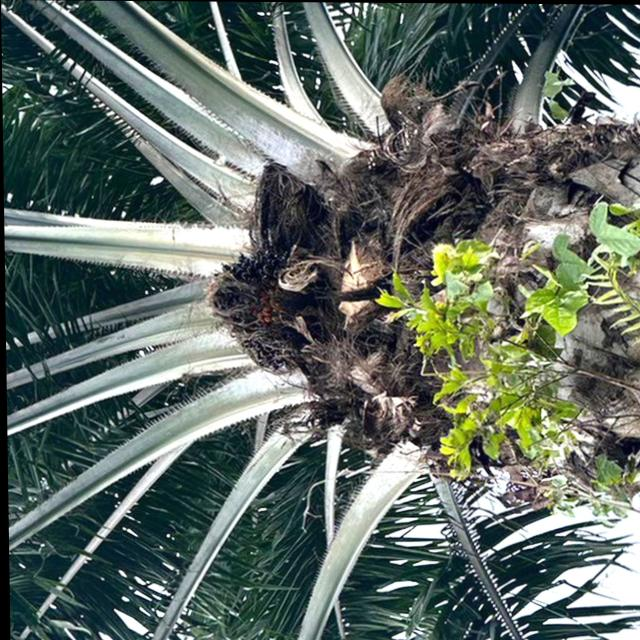almost: (195, 240, 330, 382)
